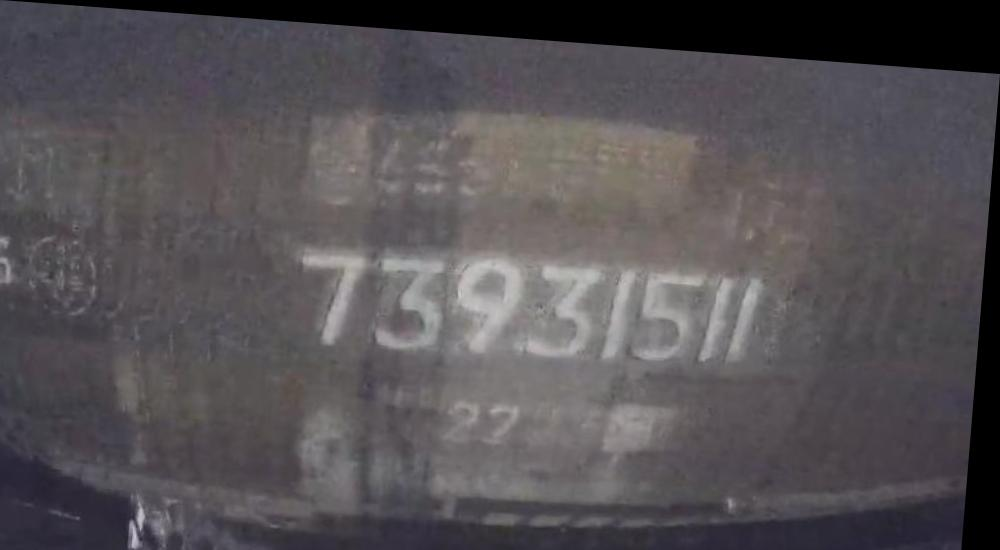Wagon-number: (291, 237, 782, 373)
